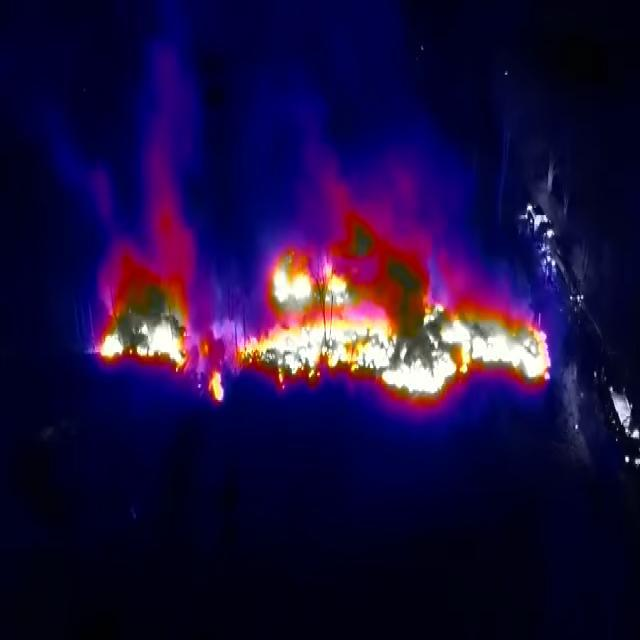fire: (203, 215, 554, 409), (93, 249, 197, 381)
